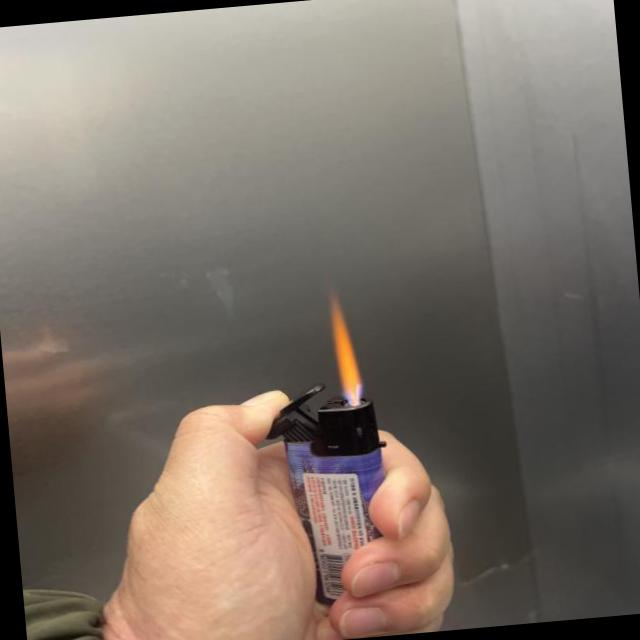Fire: (326, 290, 366, 404)
